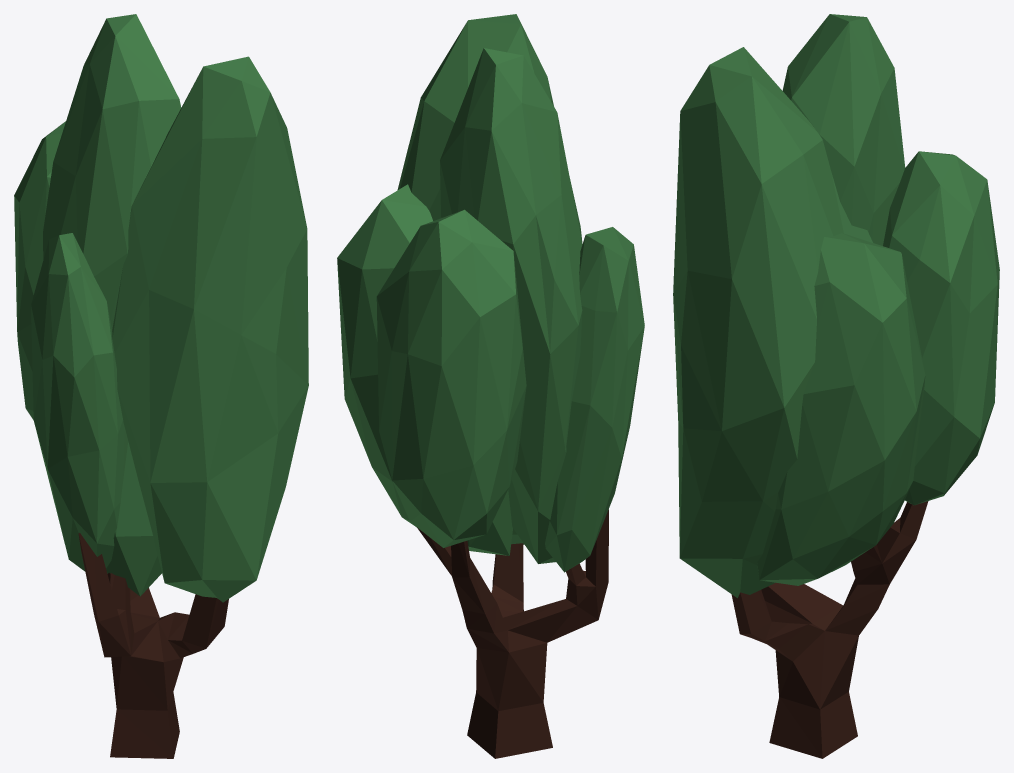
The model's file is Tree_3 Asia.fbx.
3 views of the same model, side by side, from view 1: azimuth 30°, elevation 25°; view 2: azimuth 150°, elevation 25°; view 3: azimuth 270°, elevation 25° (orthographic). The views are drawn at different scales.
Parts seen in each view (by area): view 1: Tree_3; view 2: Tree_3; view 3: Tree_3.
Part boxes in pixels (bbox=[...]): Tree_3: bbox=[14, 14, 308, 758]; Tree_3: bbox=[337, 14, 644, 758]; Tree_3: bbox=[673, 14, 999, 758].
Bounding box in the file's own units: 1.34 × 3.47 × 1.42.
